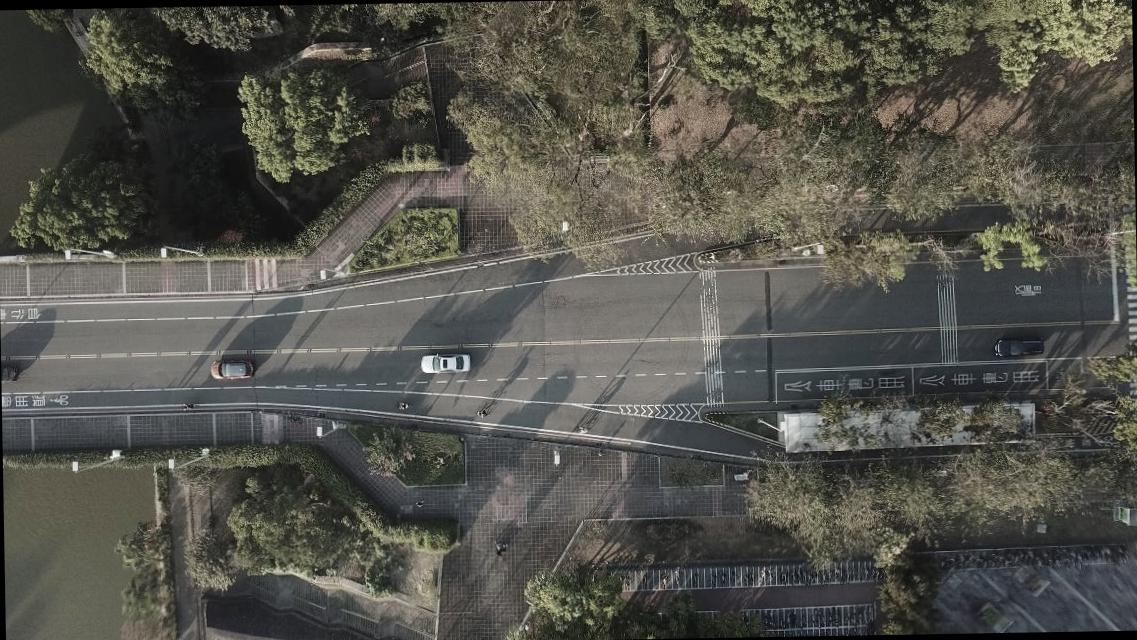vehicle: (420, 352, 470, 372), (993, 338, 1044, 357), (209, 360, 255, 380)
